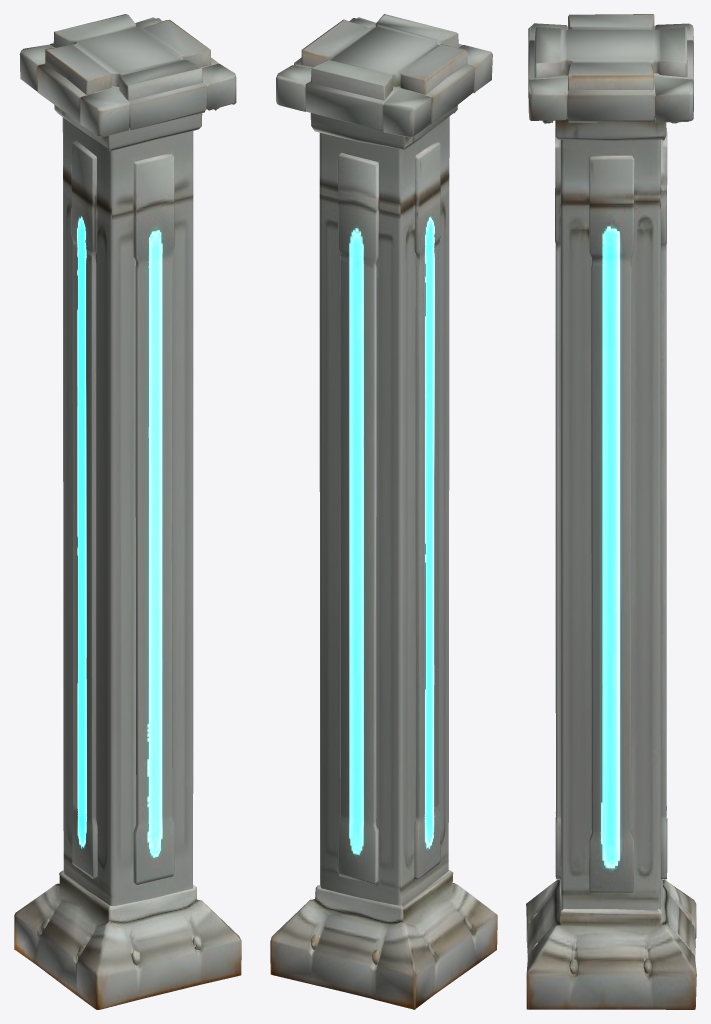
The model's file is pillar.glb.
3 views of the same model, side by side, from view 1: azimuth 30°, elevation 25°; view 2: azimuth 150°, elevation 25°; view 3: azimuth 270°, elevation 25° (orthographic).
Size of the model in its own units: 0.5 by 3 by 0.5.
Materials: 1 (1 with a texture image).
